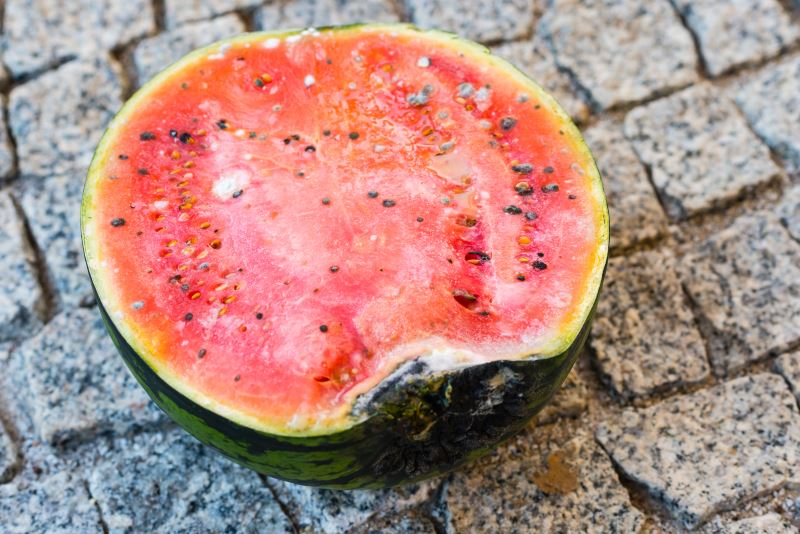damaged_watermelon: (93, 34, 615, 470)
